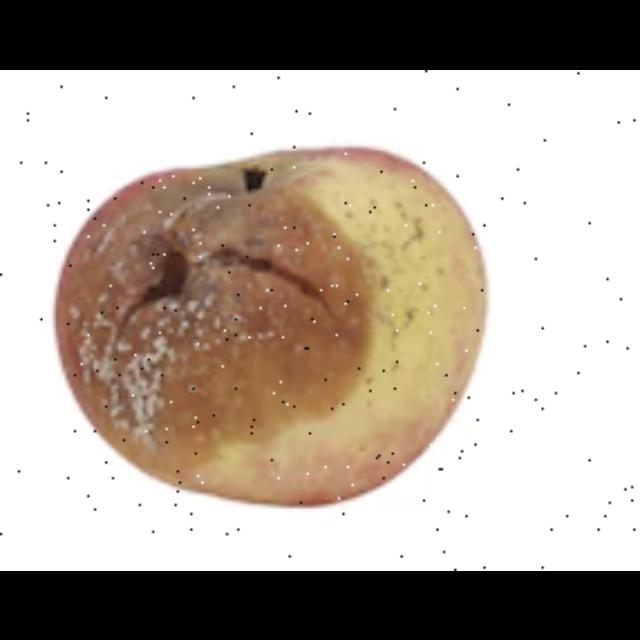Apel Tidak Segar: (49, 145, 489, 508)
